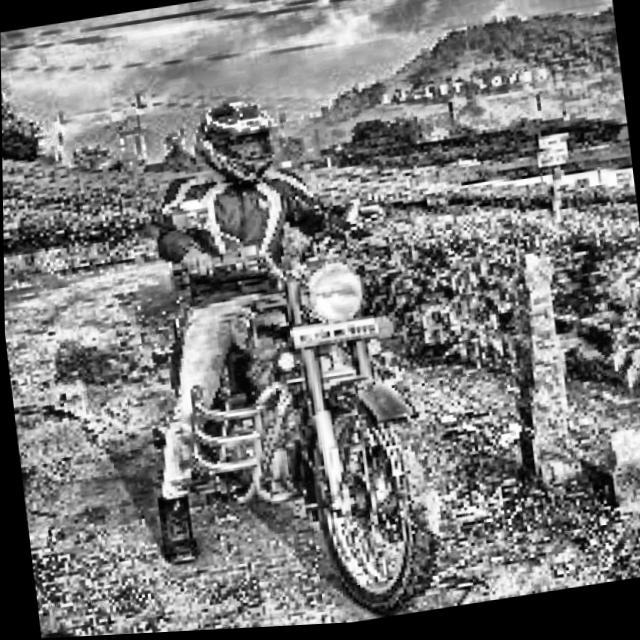motorcycle: (94, 164, 451, 636)
